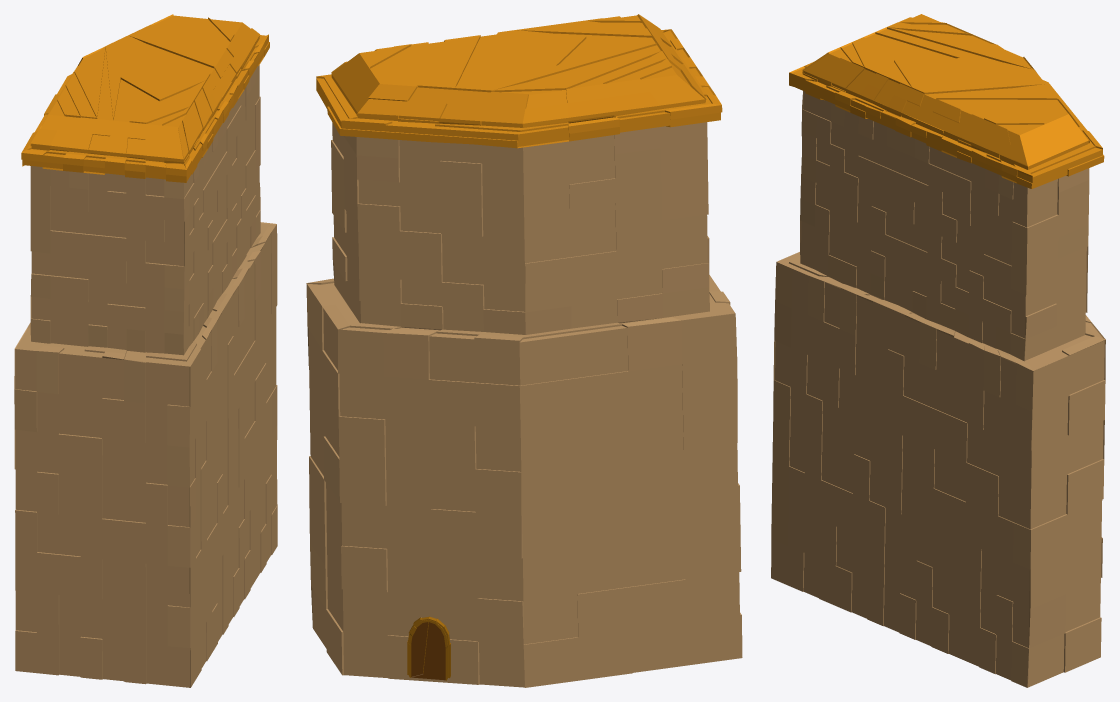
Rendered from Apartment_Building_8.fbx.
3 renders of one model, left to right at view 1: azimuth 30°, elevation 25°; view 2: azimuth 150°, elevation 25°; view 3: azimuth 270°, elevation 25°, orthographic. The views are drawn at different scales.
Visible parts, largest first — view 1: Cube.536; view 2: Cube.536, Cube.565; view 3: Cube.536.
Boxes of the visible parts, x1=… form: Cube.536: x1=14, y1=14, x2=277, y2=687; Cube.536: x1=306, y1=14, x2=742, y2=687; Cube.565: x1=407, y1=616, x2=450, y2=680; Cube.536: x1=771, y1=14, x2=1105, y2=687.
Size of the model in its own units: 1724 by 2694 by 1514.
